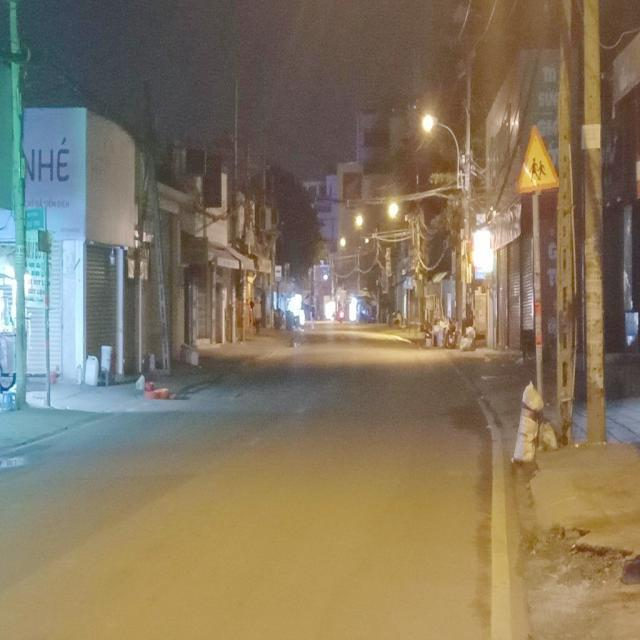225-chu-y-tre-em: (516, 125, 560, 195)
